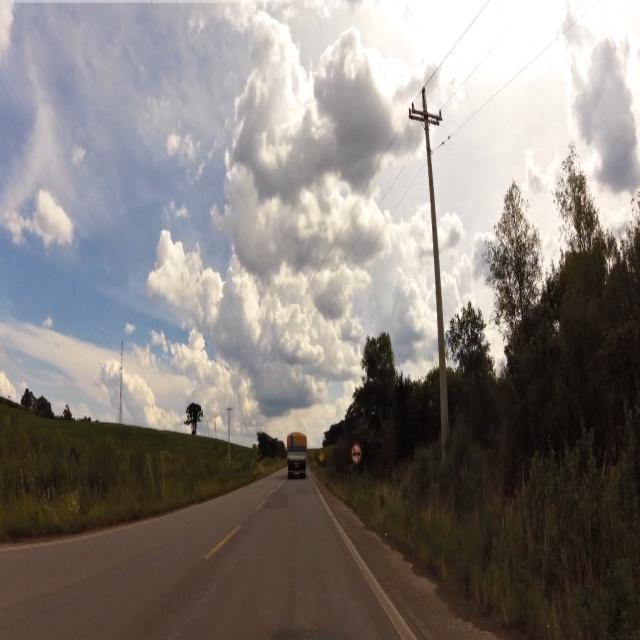R-7: (351, 442, 362, 467)
